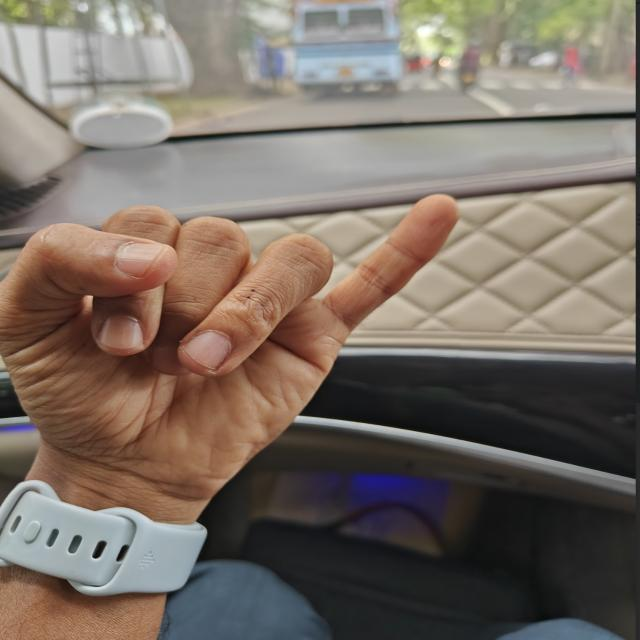pinky: (316, 174, 479, 328)
